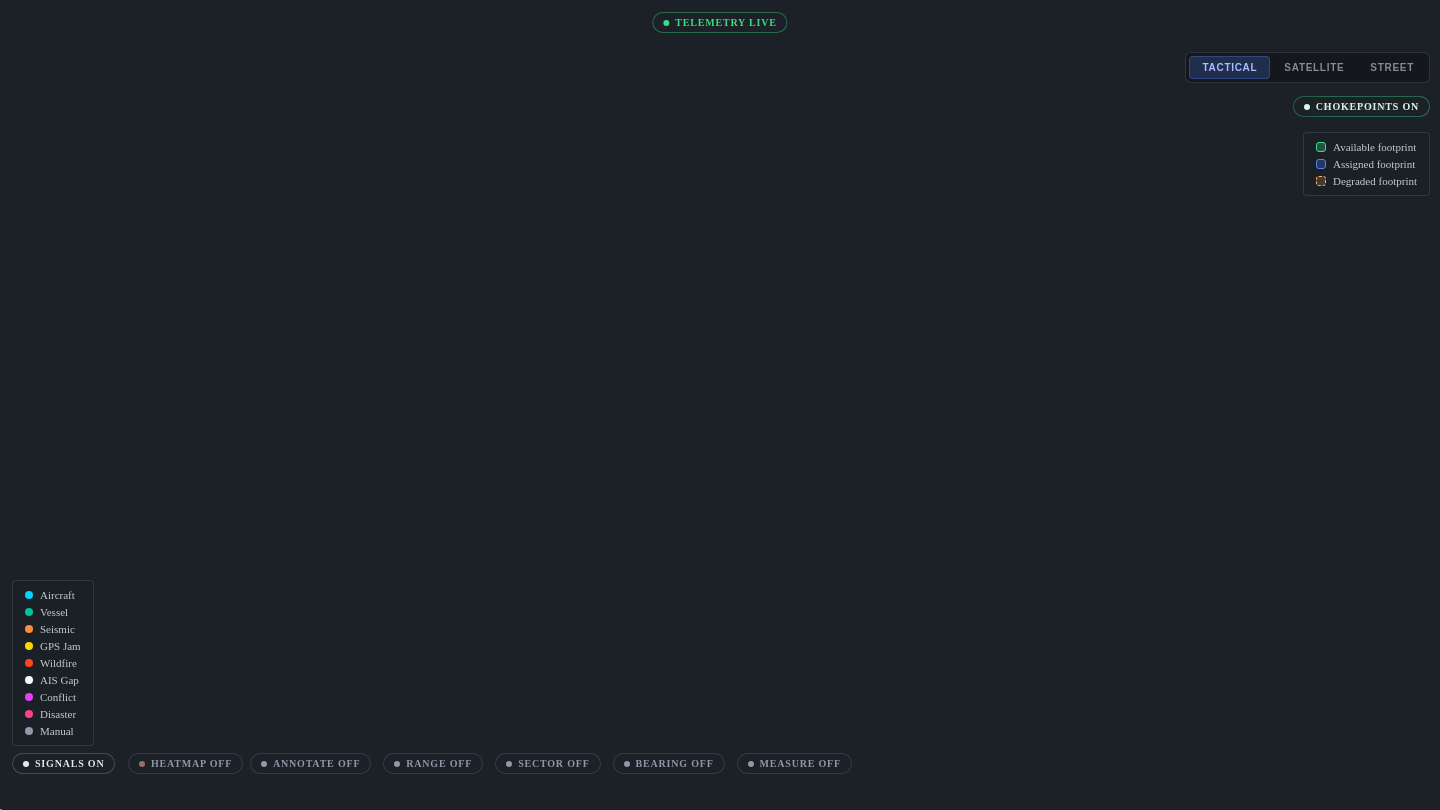
Test case: MapPage selection routing › keeps the heatmap legend hidden when the signal layer is turned off
Click the button with aria-label "Toggle signal heatmap" at x=186, y=764, box [128,753,243,774]
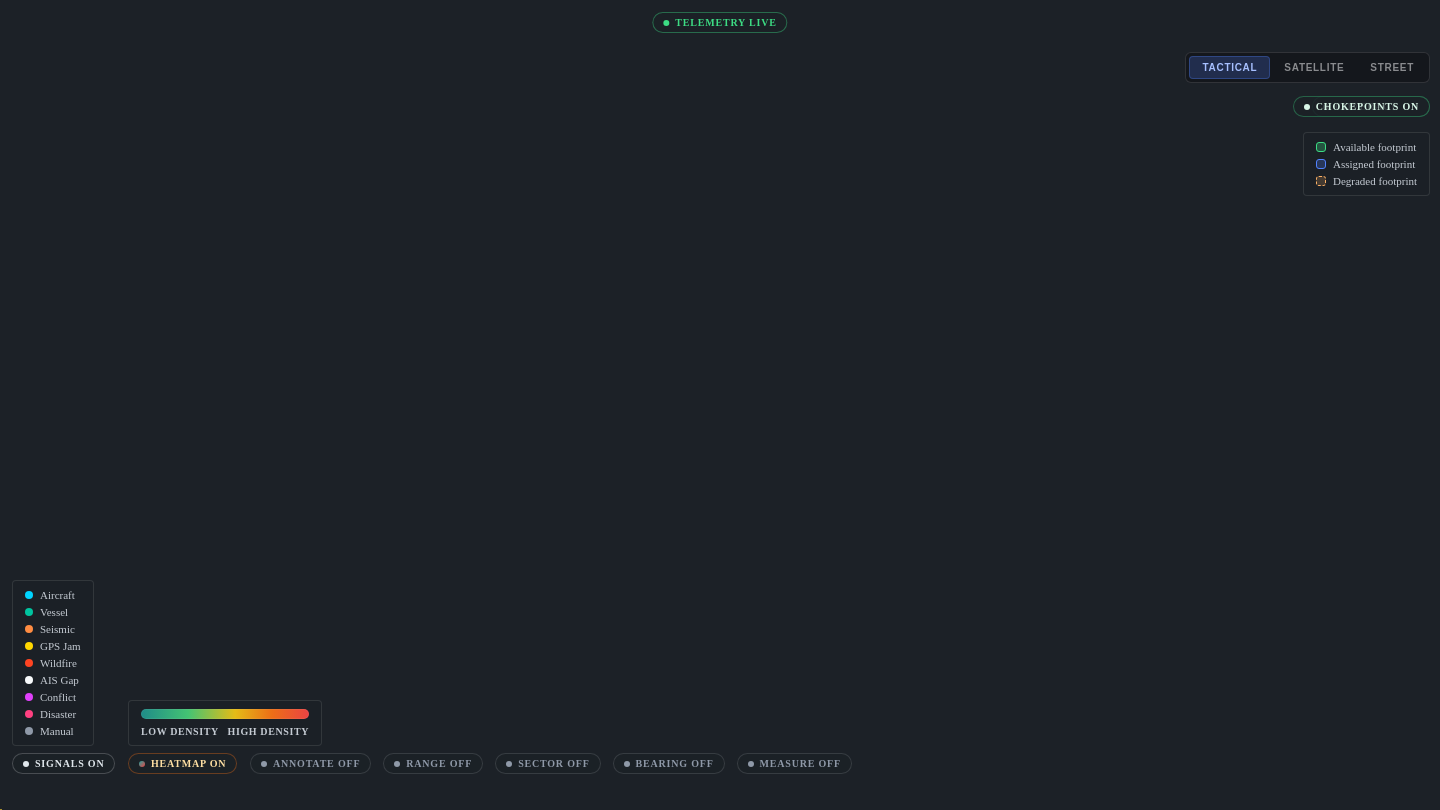
Now the text "LOW DENSITY" is shown, box [141,726,219,737]
Click the button with aria-label "Toggle signal layer" at x=64, y=764, box [12,753,115,774]
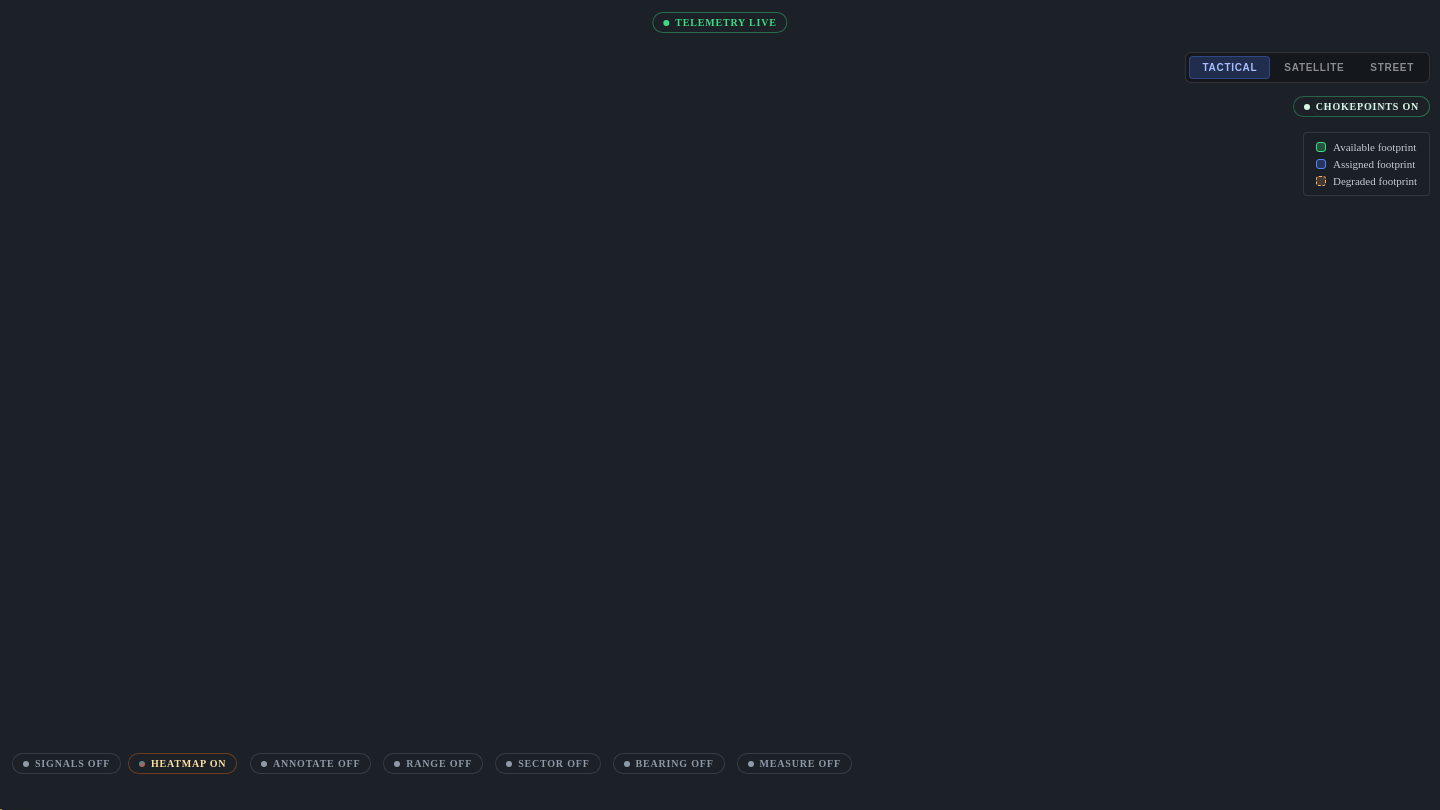
Now the text "LOW DENSITY" is gone
Now the text "HIGH DENSITY" is gone
